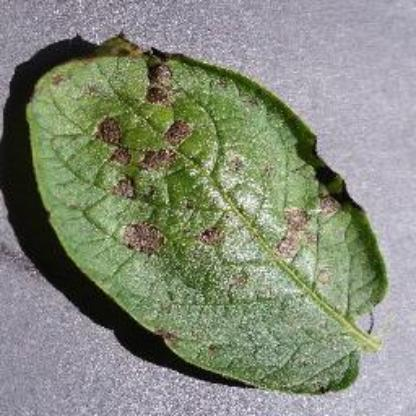Early-Blight: (14, 22, 404, 396)
